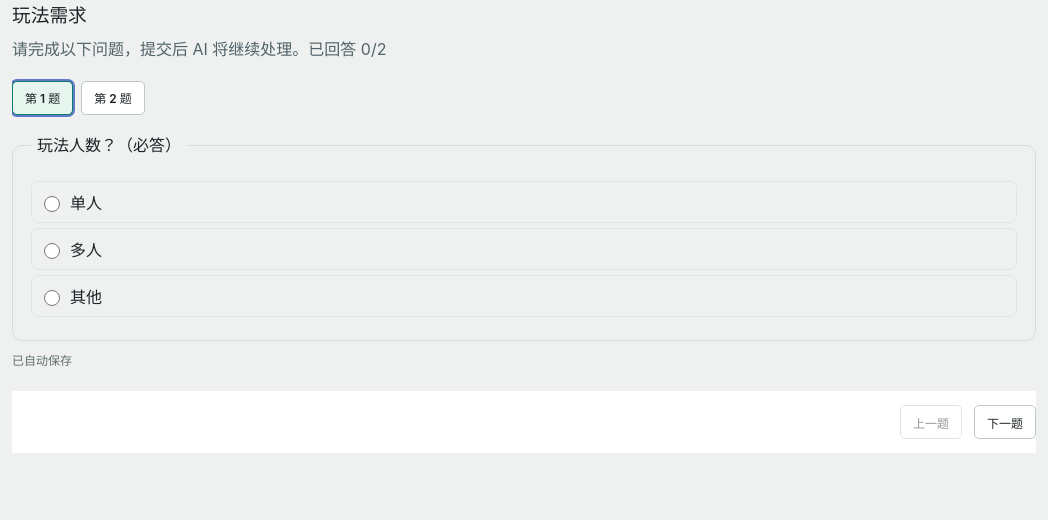
Test case: points to the first missing answer without asking to refresh or sending a mutation
Click the button "下一题": (1005, 422) [974,405,1036,439]
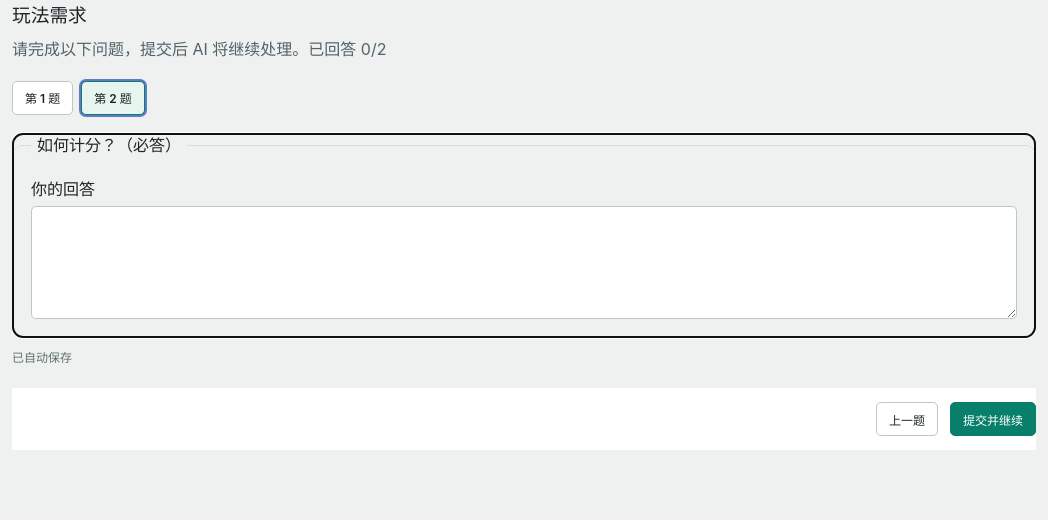
Click the button "提交并继续": (993, 419) [950,402,1036,436]
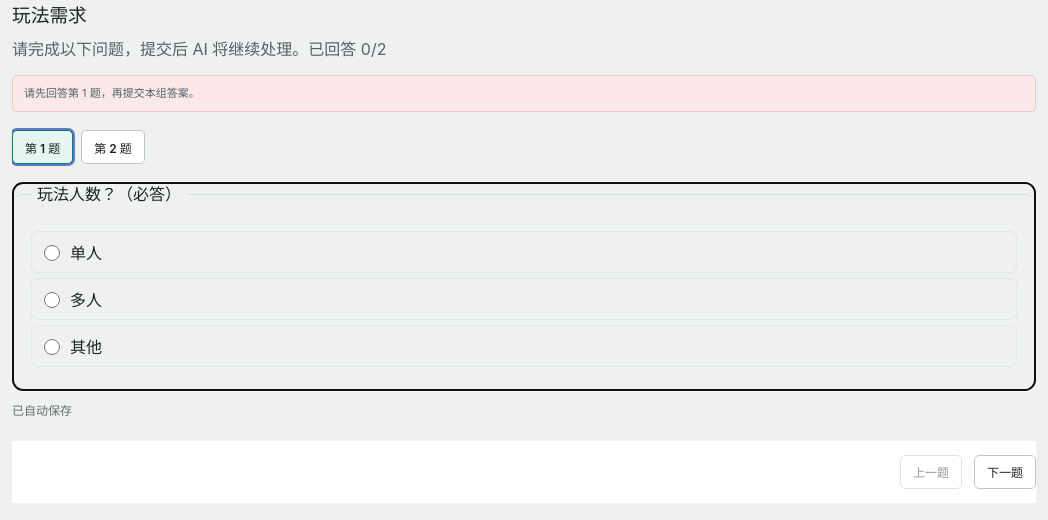
Now the message "请先回答第 1 题，再提交本组答案。" is shown, box [12,75,1036,112]
